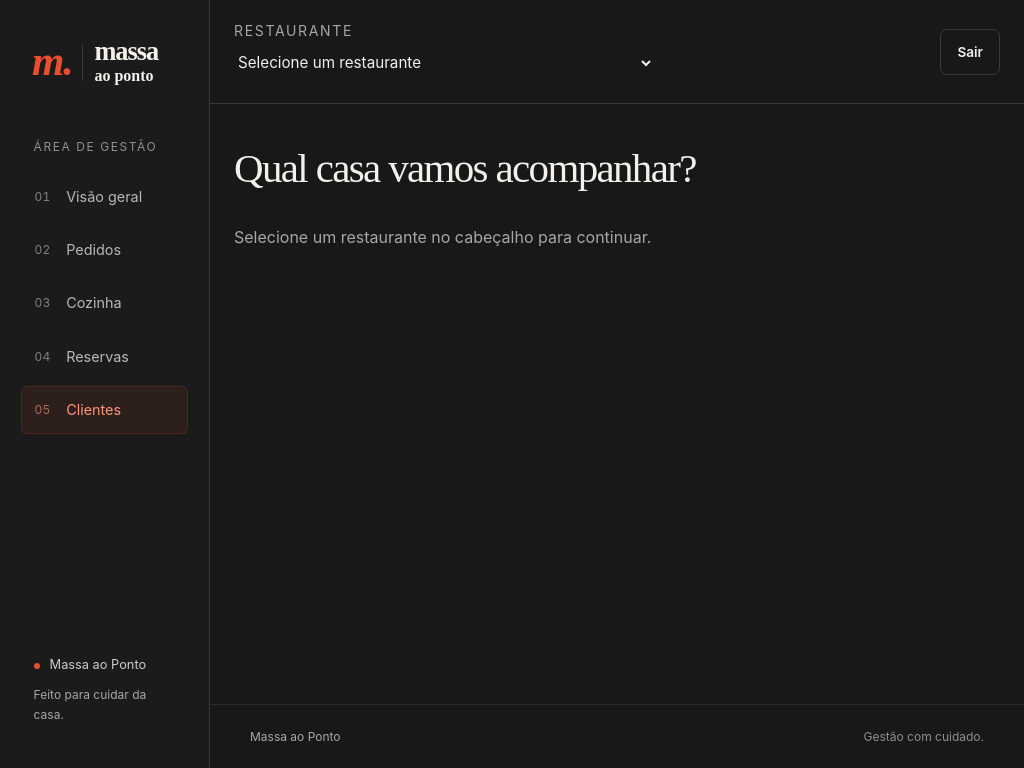
Customers UI › clears the selected customer and aborts its detail on Restaurant switch
Expected: the heading "Qual casa vamos acompanhar?" is shown, [234,145,696,191]
Select "Centro" in the dropdown labelled "RESTAURANTE" at (444, 63), box [234,45,654,81]
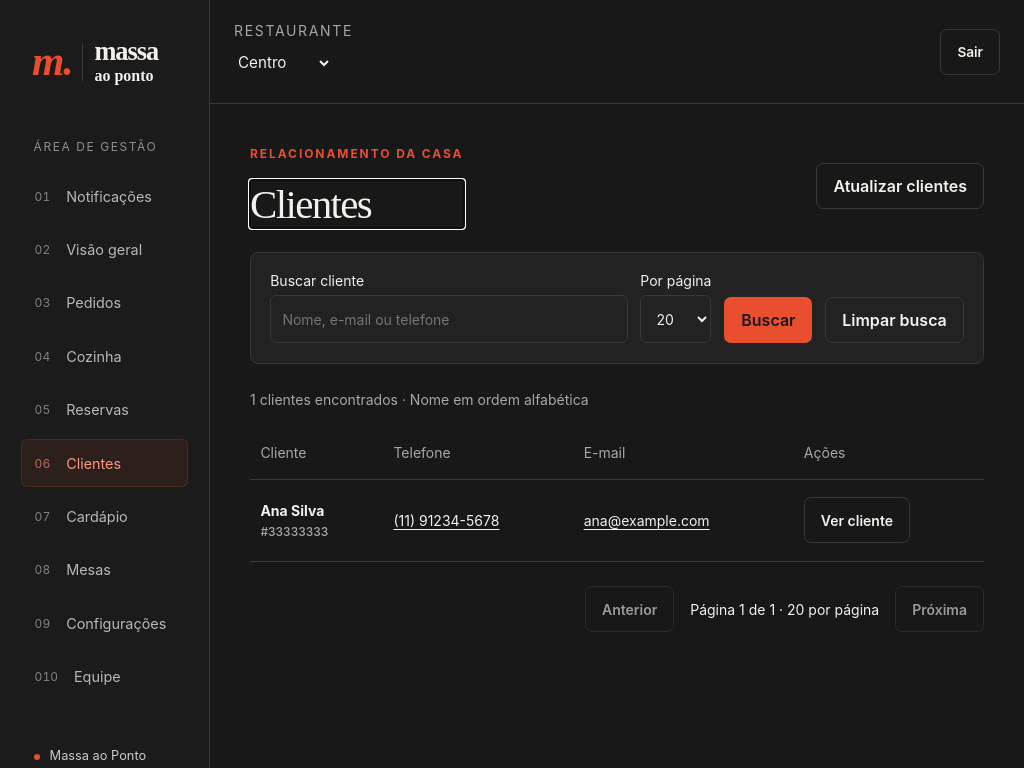
Click the button with aria-label "Abrir cliente Ana Silva" at (857, 520), box [804,497,910,543]
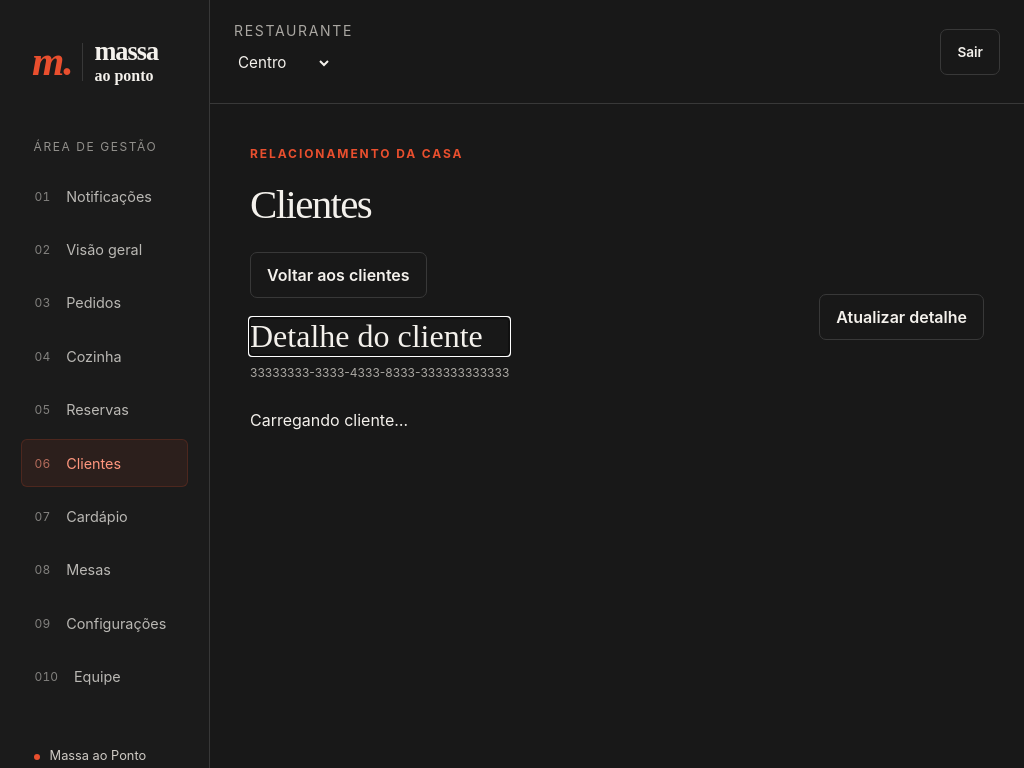
Expected: the text "Carregando cliente…" is shown, [250,410,408,430]
Select "Norte" in the dropdown labelled "RESTAURANTE" at (283, 63), box [234,45,332,81]
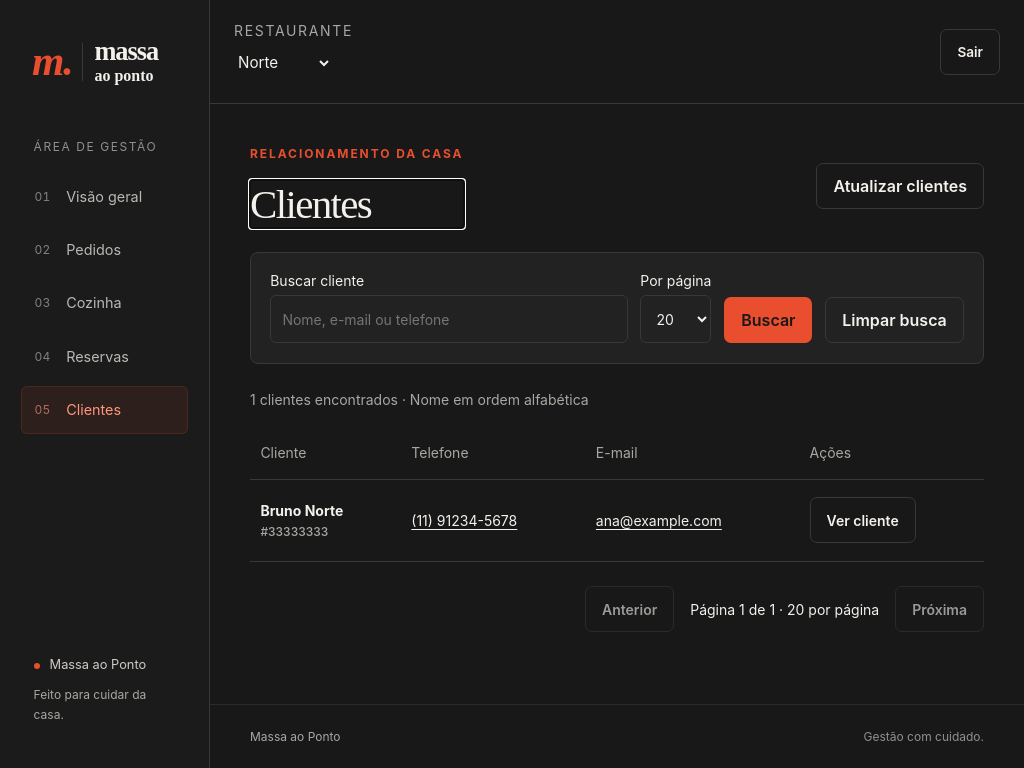
Expected: the text "Bruno Norte" is shown, [260,502,343,519]
Expected: the heading "Detalhe do cliente" is gone
